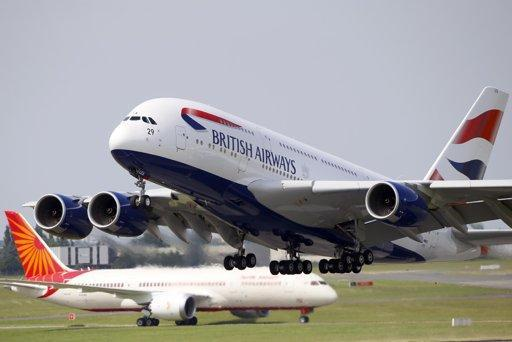airplane: (43, 80, 512, 251), (2, 209, 343, 329)
